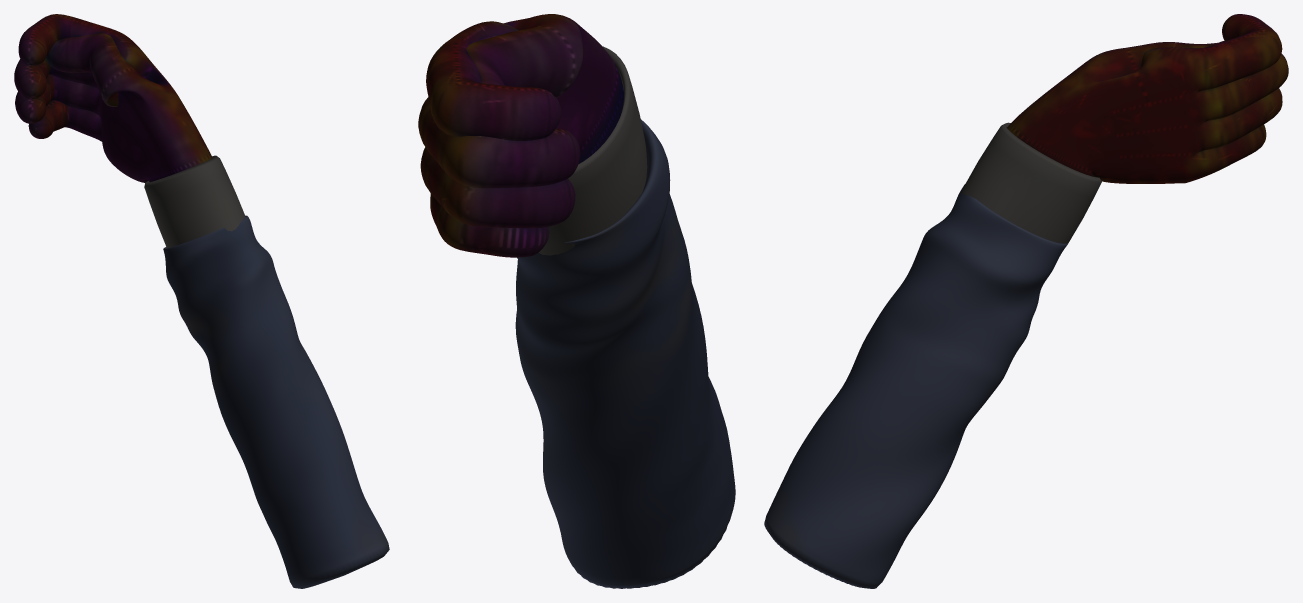
Rendered from fp_hand_R_fist.glb.
3 views of the same model, side by side, from view 1: azimuth 30°, elevation 25°; view 2: azimuth 150°, elevation 25°; view 3: azimuth 270°, elevation 25° (orthographic). The views are drawn at different scales.
Parts seen in each view (by area): view 1: fp_hand_R_fist; view 2: fp_hand_R_fist; view 3: fp_hand_R_fist.
Boxes of the visible parts, x1,y1,x2,y2 form: fp_hand_R_fist: (14, 14, 389, 588); fp_hand_R_fist: (418, 14, 735, 588); fp_hand_R_fist: (764, 14, 1288, 588).
Size of the model in its own units: 0.1414 by 0.3368 by 0.3158.
3 materials, 1 textured.
